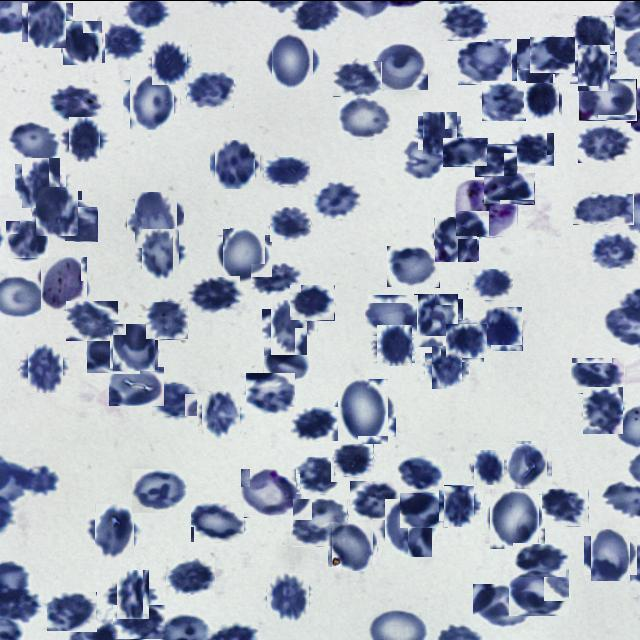red blood cell: (334, 382, 392, 440), (488, 490, 542, 546), (509, 568, 570, 616), (371, 38, 428, 88), (382, 501, 435, 554), (473, 583, 534, 628), (293, 498, 348, 546), (132, 468, 189, 512), (126, 76, 176, 126), (130, 194, 180, 244), (458, 38, 512, 84), (219, 230, 268, 280), (268, 35, 318, 84), (579, 78, 637, 120), (338, 96, 393, 140), (8, 119, 62, 163), (411, 296, 460, 344), (364, 294, 418, 336), (387, 245, 440, 287), (91, 507, 138, 554), (109, 364, 164, 404), (191, 502, 245, 542), (578, 122, 631, 162), (266, 574, 312, 620), (588, 532, 634, 578), (34, 188, 80, 234), (66, 300, 118, 340), (266, 304, 312, 349), (330, 522, 375, 568), (50, 84, 104, 122), (212, 142, 258, 186), (112, 324, 156, 370), (50, 198, 98, 240), (87, 334, 140, 372), (246, 372, 295, 413), (350, 480, 400, 520), (47, 591, 97, 631), (514, 41, 558, 86), (506, 441, 550, 486), (478, 306, 522, 351), (18, 160, 62, 204), (139, 231, 183, 275), (26, 0, 70, 44), (200, 392, 243, 436), (434, 217, 478, 260), (573, 193, 634, 224), (571, 357, 625, 392), (583, 386, 623, 433), (312, 180, 360, 218), (166, 557, 215, 594), (191, 275, 240, 312), (24, 346, 66, 389), (513, 542, 566, 576), (402, 139, 448, 178), (542, 488, 589, 526), (113, 604, 165, 638), (62, 21, 104, 63), (333, 60, 382, 96), (482, 80, 526, 120), (441, 3, 488, 40), (264, 346, 312, 382), (187, 71, 234, 107), (573, 14, 614, 55), (400, 492, 448, 527), (112, 574, 154, 614), (592, 232, 638, 268), (296, 456, 339, 494), (146, 301, 189, 339), (290, 406, 338, 440), (484, 172, 535, 204), (290, 284, 335, 320), (530, 36, 575, 72), (150, 42, 190, 82), (7, 219, 47, 259), (574, 47, 614, 87), (396, 456, 443, 490), (65, 119, 104, 158), (106, 22, 146, 60), (152, 383, 198, 416), (511, 132, 555, 166), (420, 113, 459, 151), (270, 206, 312, 241), (251, 263, 301, 292), (428, 348, 466, 386), (375, 326, 413, 364), (448, 321, 486, 359), (469, 268, 514, 300), (475, 143, 518, 176), (264, 156, 310, 185), (442, 486, 478, 523), (334, 443, 374, 476), (443, 137, 488, 166), (524, 83, 560, 118), (472, 451, 506, 484)
ring: (241, 468, 303, 517), (38, 258, 88, 308)
trophozoite: (456, 179, 518, 236)
